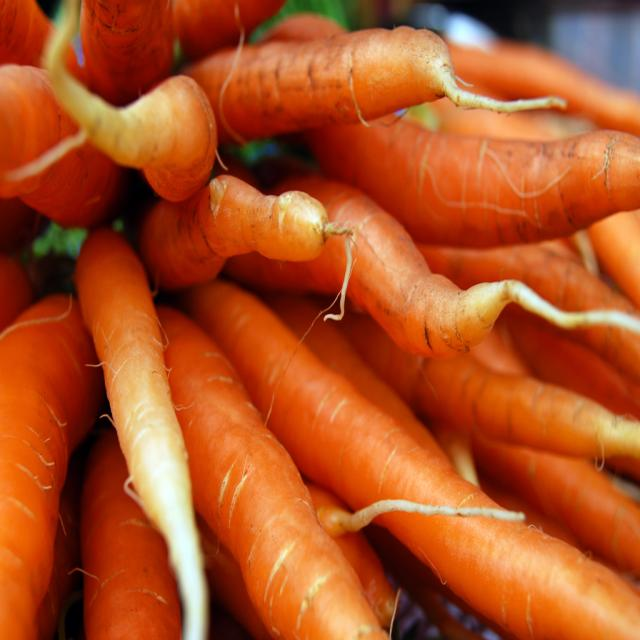Carrot: (70, 223, 208, 640)
